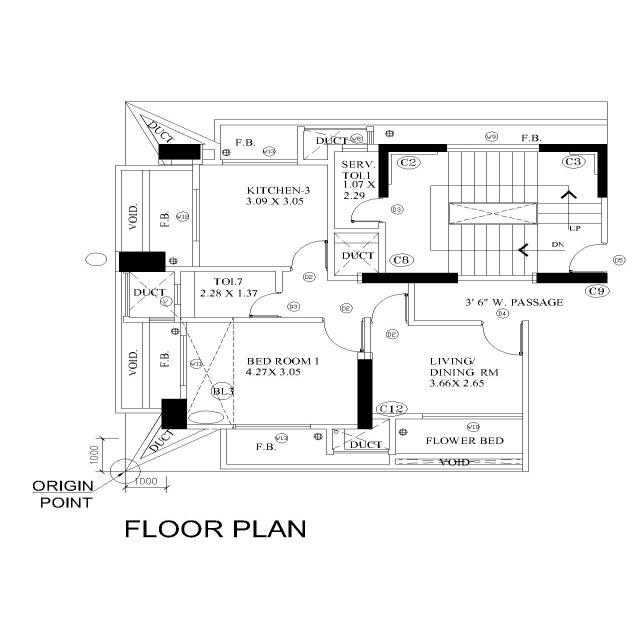Column: (377, 143, 449, 199), (538, 144, 609, 198), (356, 358, 374, 430), (118, 250, 168, 274), (361, 272, 459, 284), (160, 398, 188, 430), (535, 272, 609, 284), (157, 142, 201, 161)
Door: (321, 316, 365, 324), (369, 317, 410, 325), (480, 319, 524, 326), (377, 196, 387, 224), (274, 292, 284, 318), (600, 242, 608, 274), (289, 266, 329, 272)
Staircase: (385, 151, 601, 274)
Ventilator: (341, 143, 369, 153), (173, 284, 183, 306)
Window: (446, 143, 540, 153), (422, 413, 524, 420), (221, 159, 299, 166), (234, 423, 312, 430), (192, 188, 200, 242), (179, 335, 187, 387), (148, 316, 176, 324)
